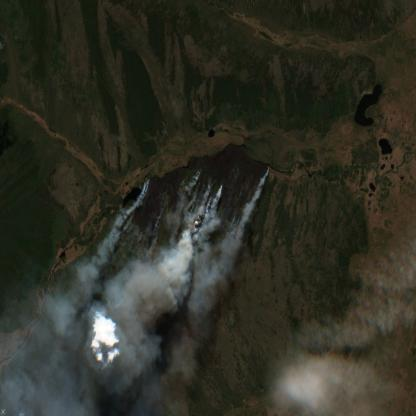fire: (130, 163, 272, 253)
